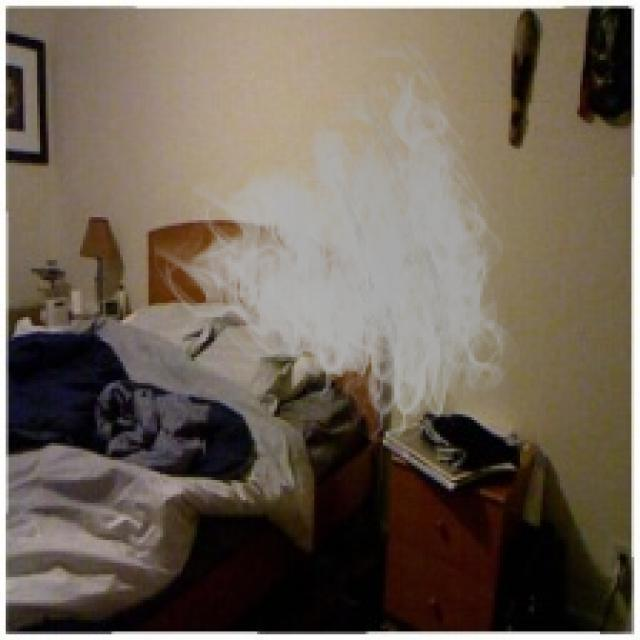Smoke: (154, 34, 529, 454)
